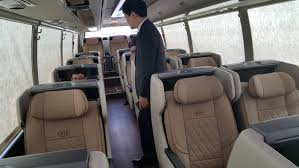seat: (22, 90, 107, 150)
